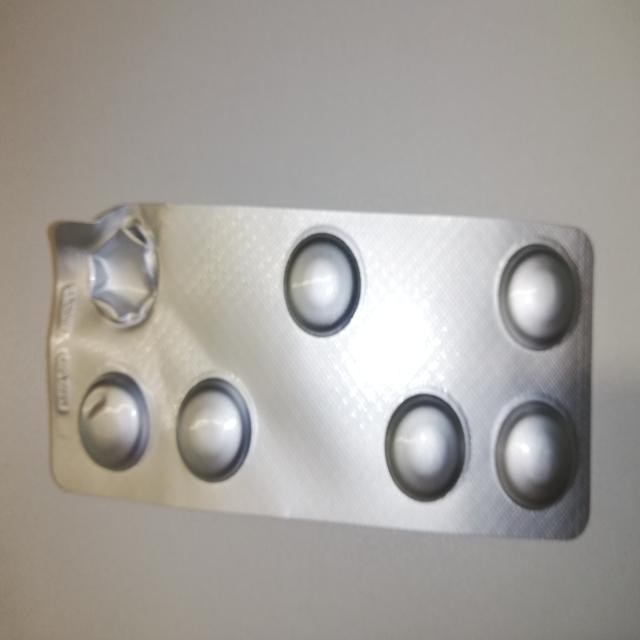Pill: (488, 395, 584, 511), (380, 389, 473, 506), (494, 239, 582, 354), (169, 369, 253, 485), (282, 223, 364, 339), (82, 221, 163, 330), (66, 370, 147, 477)
